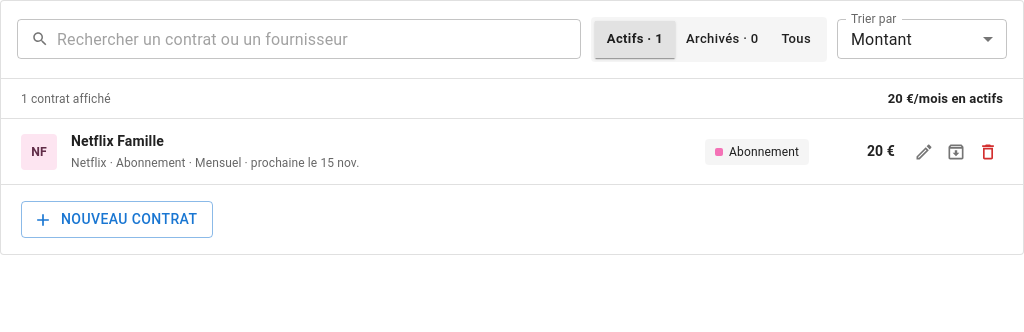
Scenario: ContractSettings – actions › affiche l'erreur renvoyée par l'action
Click the button named "Archiver Netflix Famille" at (956, 152), box [941,137,971,167]
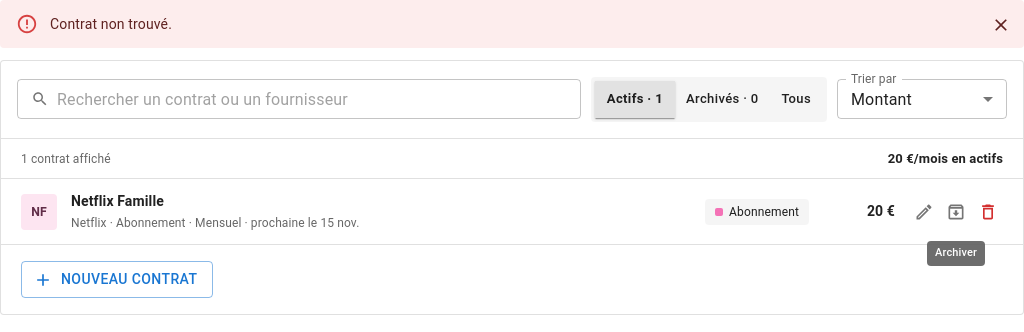
Expected: the text "Contrat non trouvé." is shown, [50,16,172,32]
